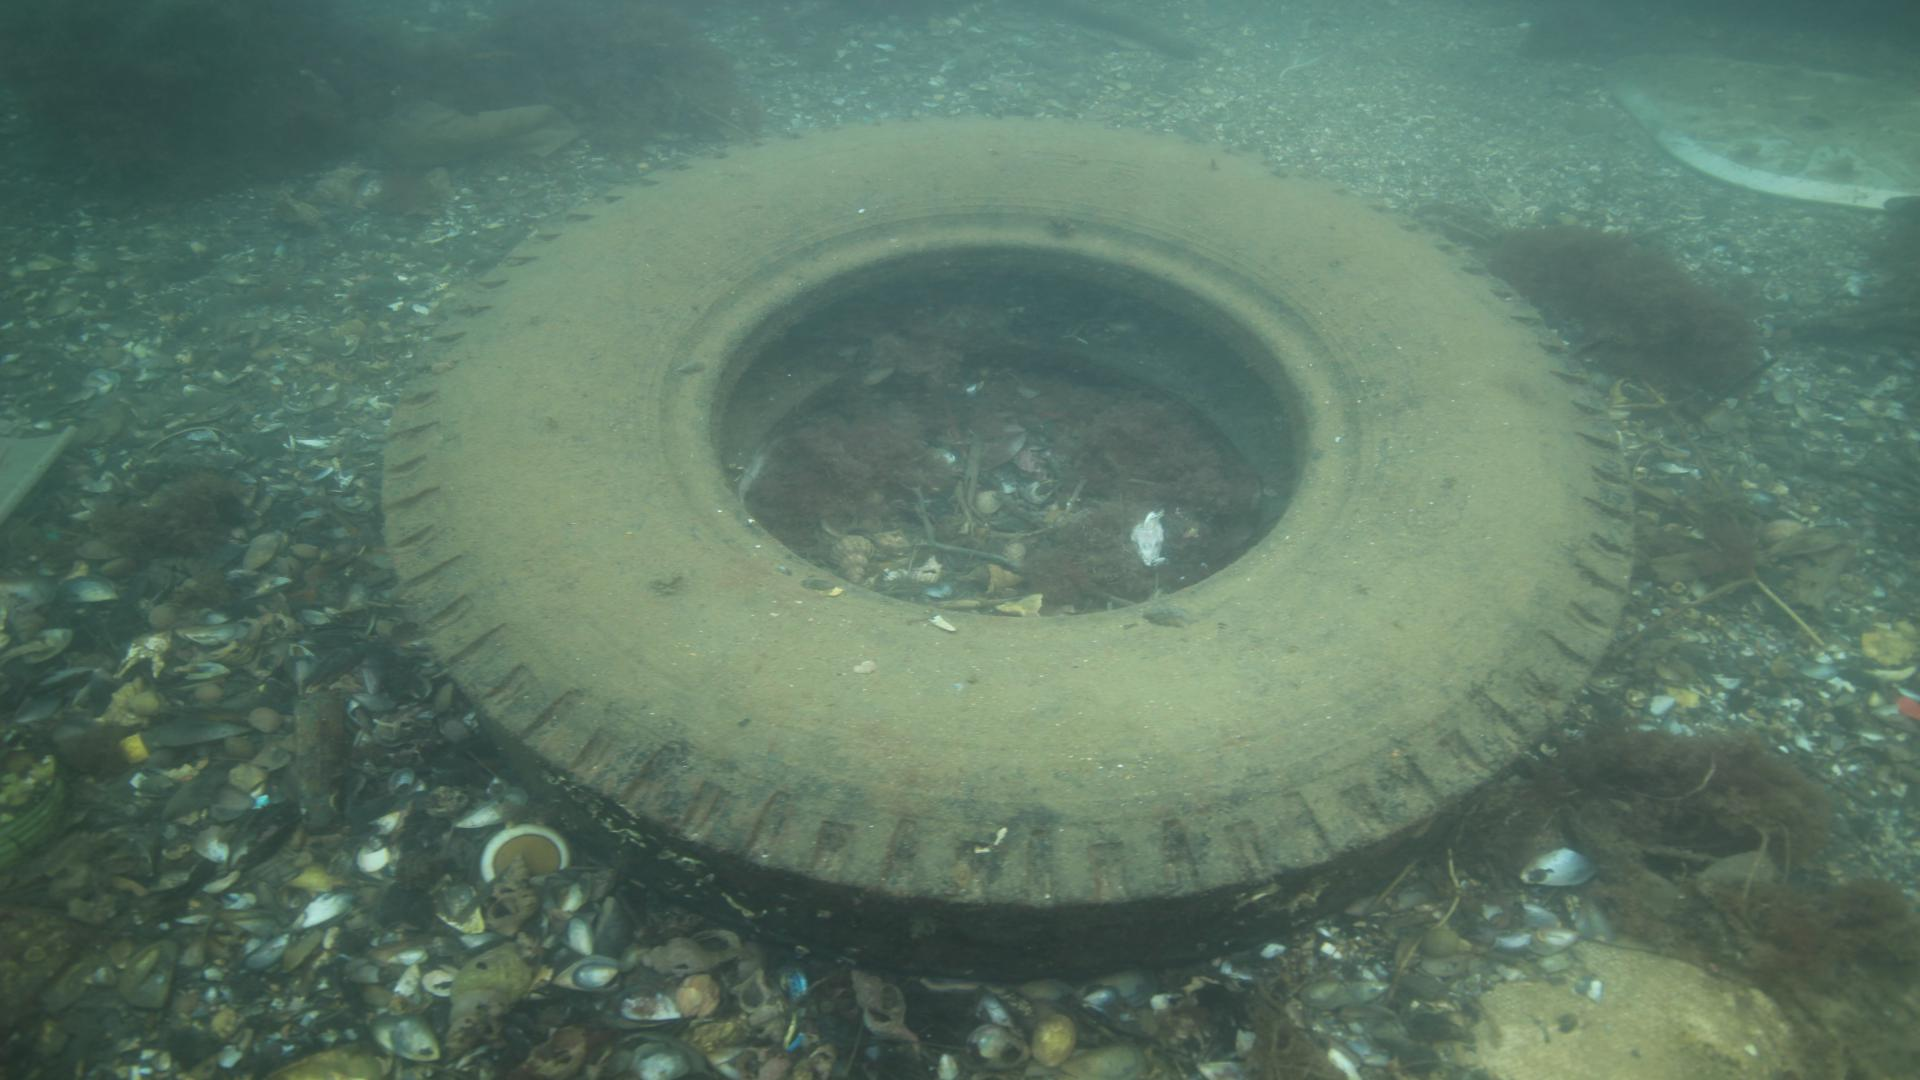tire: (381, 113, 1640, 977)
